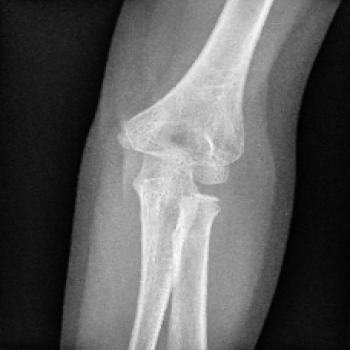Fracture: (175, 172, 244, 219)
